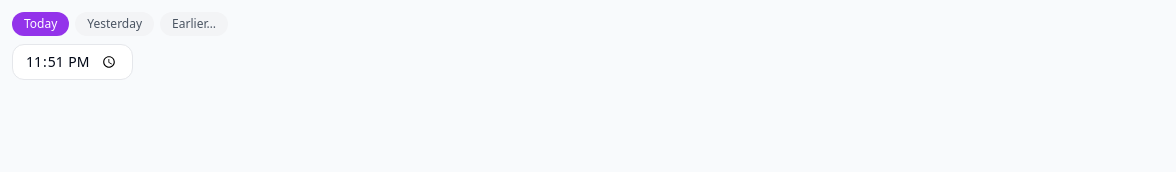
BackdateChips — chip clicks › reveals the date picker when 'Earlier' is clicked
Step 1. Click the button "Earlier…" → (194, 24), box 160,12 -> 228,36
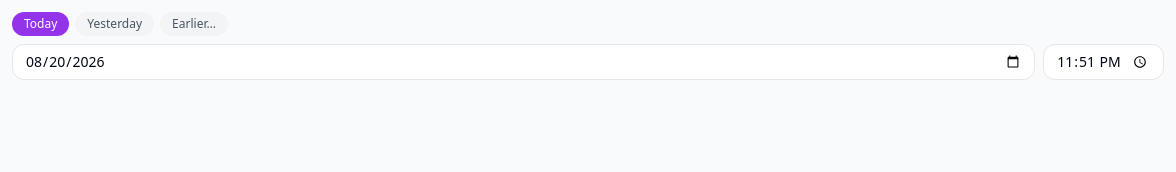
Now the date field named "Date" is shown, box 12,44 -> 1035,80
